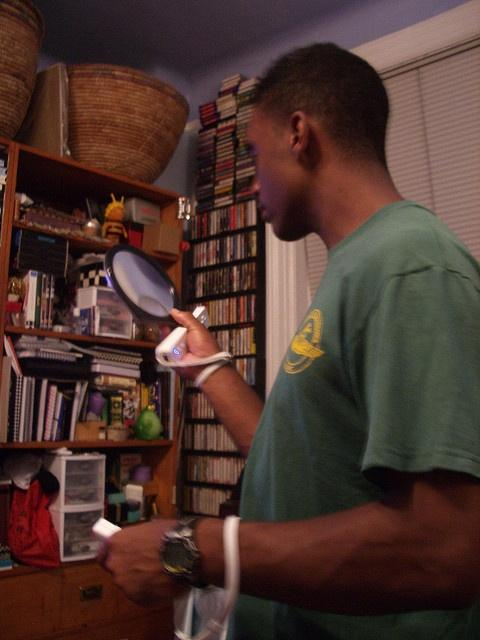Rak: (0, 141, 186, 578)
